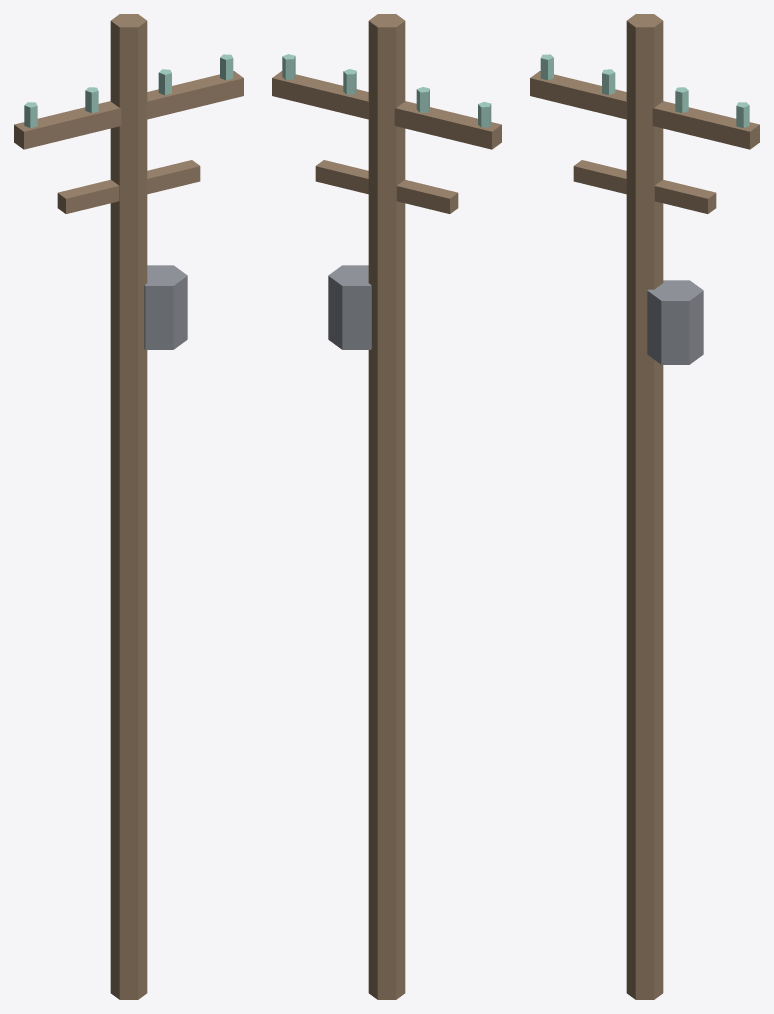
The model's file is phone_pole.glb.
The picture shows the model from 3 angles, left to right: view 1: azimuth 30°, elevation 25°; view 2: azimuth 150°, elevation 25°; view 3: azimuth 330°, elevation 25°; orthographic projection.
Parts seen in each view (by area): view 1: phone_pole; view 2: phone_pole; view 3: phone_pole.
Part boxes in pixels (box(x1,y1,x2,y2)): phone_pole: box(14, 14, 243, 999); phone_pole: box(272, 14, 501, 999); phone_pole: box(530, 14, 759, 999).
Size of the model in its own units: 1.8 by 7.6 by 0.4.
